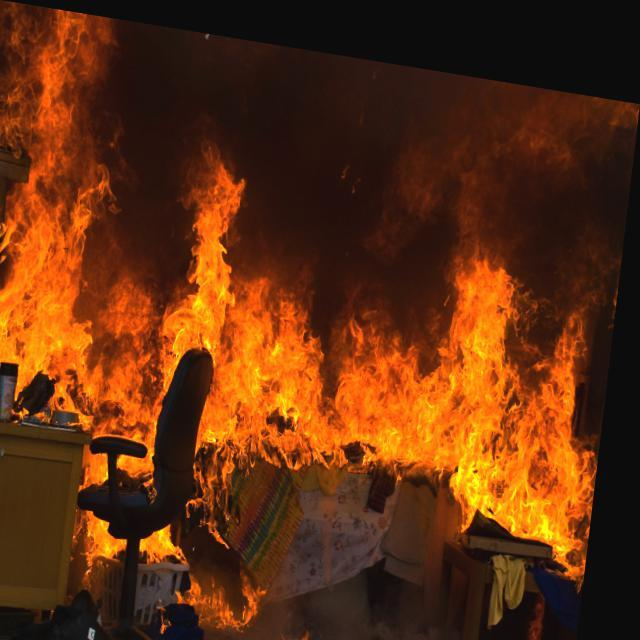Fire: (0, 16, 621, 624)
